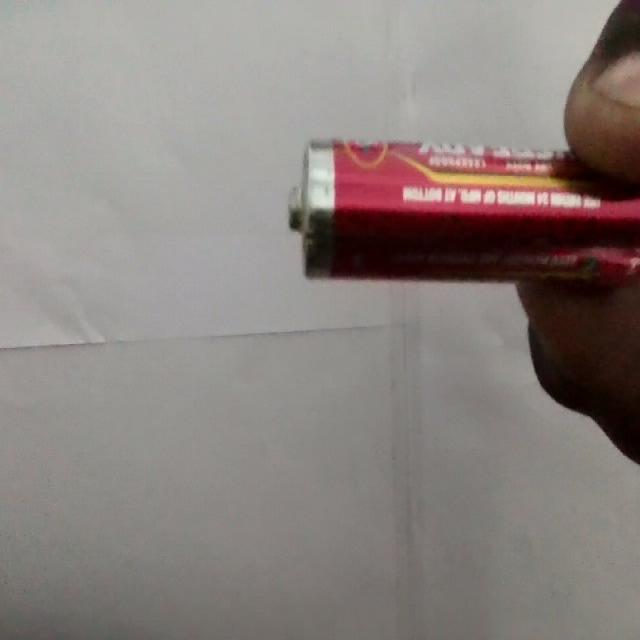battery: (289, 140, 639, 284)
